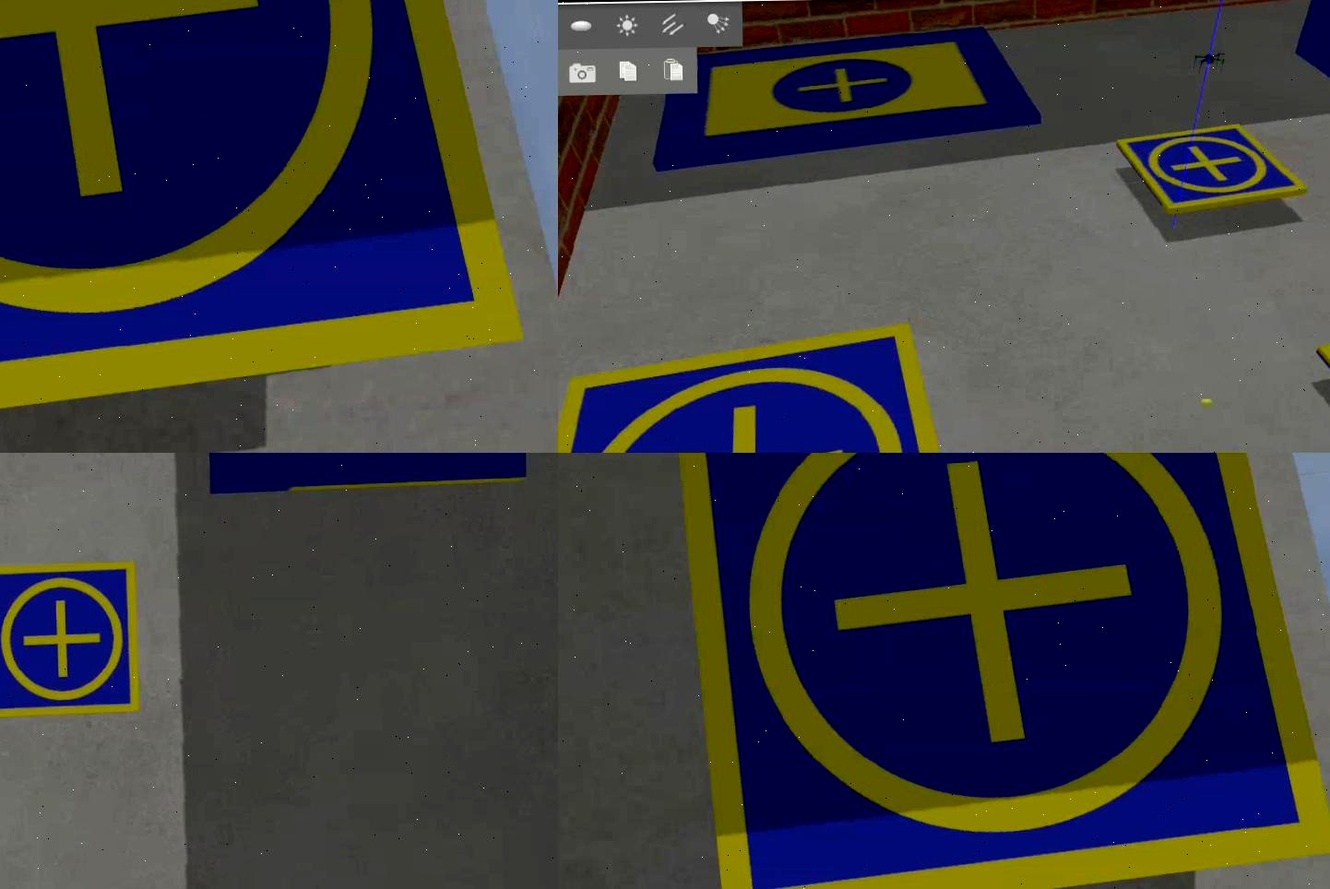large_base: (649, 26, 1044, 177)
small_base: (669, 454, 1330, 889), (1, 1, 525, 443), (558, 323, 982, 454), (1, 560, 143, 717), (1117, 128, 1310, 221)
